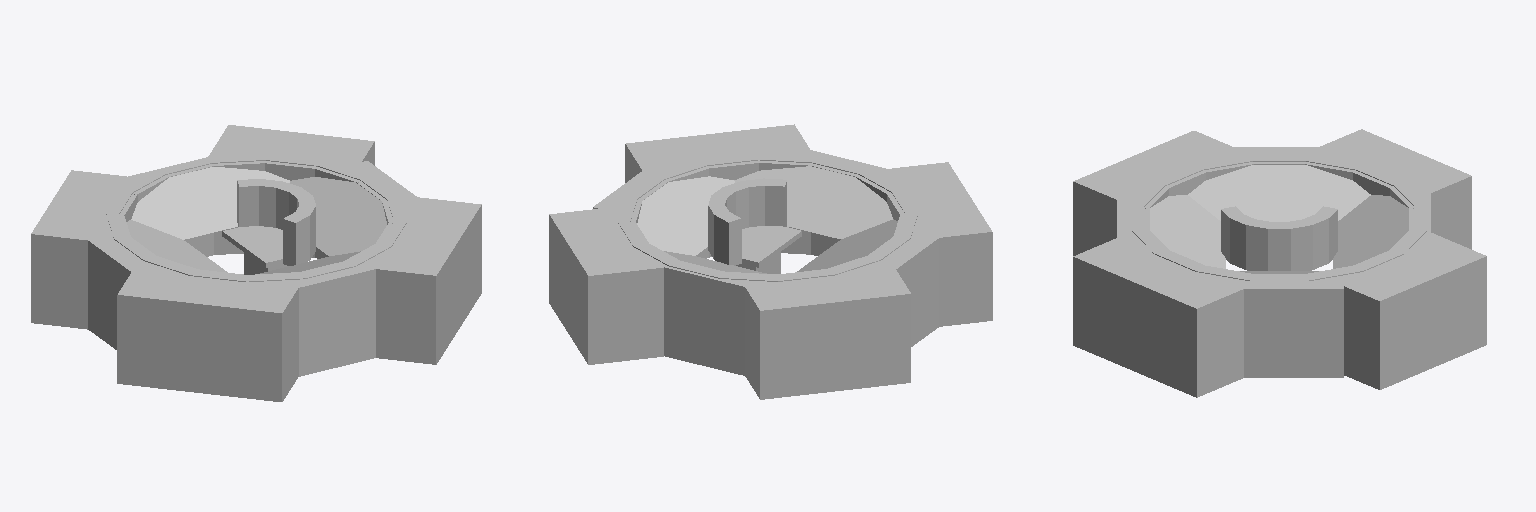
Rendered from clu_interface.obj.
3 renders of one model, left to right at view 1: azimuth 30°, elevation 25°; view 2: azimuth 150°, elevation 25°; view 3: azimuth 270°, elevation 25°, orthographic.
Visible parts, largest first — view 1: hexadecagon.020, hexadecagon.024, hexadecagon.019, hexadecagon.022, cube.002, hexadecagon.015, cube.000, hexadecagon.026, cube, cube.003, hexadecagon.033, hexadecagon.032 (+6 smaller); view 2: hexadecagon.019, hexadecagon.015, hexadecagon.020, hexadecagon.017, cube.001, hexadecagon.024, cube.000, hexadecagon.026, cube, cube.003, hexadecagon.032, hexadecagon.029 (+6 smaller); view 3: hexadecagon.024, hexadecagon.015, hexadecagon.029, hexadecagon.020, cube, hexadecagon.019, cube.001, cube.002, hexadecagon.036, hexadecagon.035, hexadecagon.026, hexadecagon.037 (+5 smaller).
Part boxes in pixels (x1,y1,x2,y2): hexadecagon.020: (117, 263, 302, 401); hexadecagon.024: (361, 197, 481, 364); hexadecagon.019: (31, 170, 137, 329); hexadecagon.022: (297, 262, 375, 376); cube.002: (131, 167, 289, 239); hexadecagon.015: (208, 125, 374, 257); cube.000: (290, 177, 386, 255); hexadecagon.026: (88, 234, 154, 349); cube: (127, 220, 227, 272); cube.003: (222, 226, 282, 267); hexadecagon.033: (283, 212, 309, 265); hexadecagon.032: (237, 179, 261, 226); hexadecagon.019: (741, 262, 910, 399); hexadecagon.015: (549, 209, 663, 364); hexadecagon.020: (873, 162, 992, 326); hexadecagon.017: (651, 260, 744, 375); cube.001: (734, 166, 892, 238); hexadecagon.024: (625, 124, 814, 257); cube.000: (637, 176, 734, 255); hexadecagon.026: (869, 231, 940, 346); cube: (797, 219, 897, 271); cube.003: (742, 226, 801, 267); hexadecagon.032: (714, 211, 741, 265); hexadecagon.029: (593, 166, 667, 213); hexadecagon.024: (1073, 233, 1251, 397); hexadecagon.015: (1344, 233, 1486, 389); hexadecagon.029: (1231, 274, 1343, 377); hexadecagon.020: (1073, 131, 1243, 255); cube: (1188, 165, 1370, 221); hexadecagon.019: (1320, 129, 1471, 249); cube.001: (1150, 195, 1225, 268); cube.002: (1333, 195, 1408, 268); hexadecagon.036: (1268, 222, 1290, 270); hexadecagon.035: (1246, 219, 1272, 270); hexadecagon.026: (1229, 147, 1328, 164); hexadecagon.037: (1290, 219, 1312, 270).
Bounding box in the file's own units: 4.32 × 1.17 × 4.21.